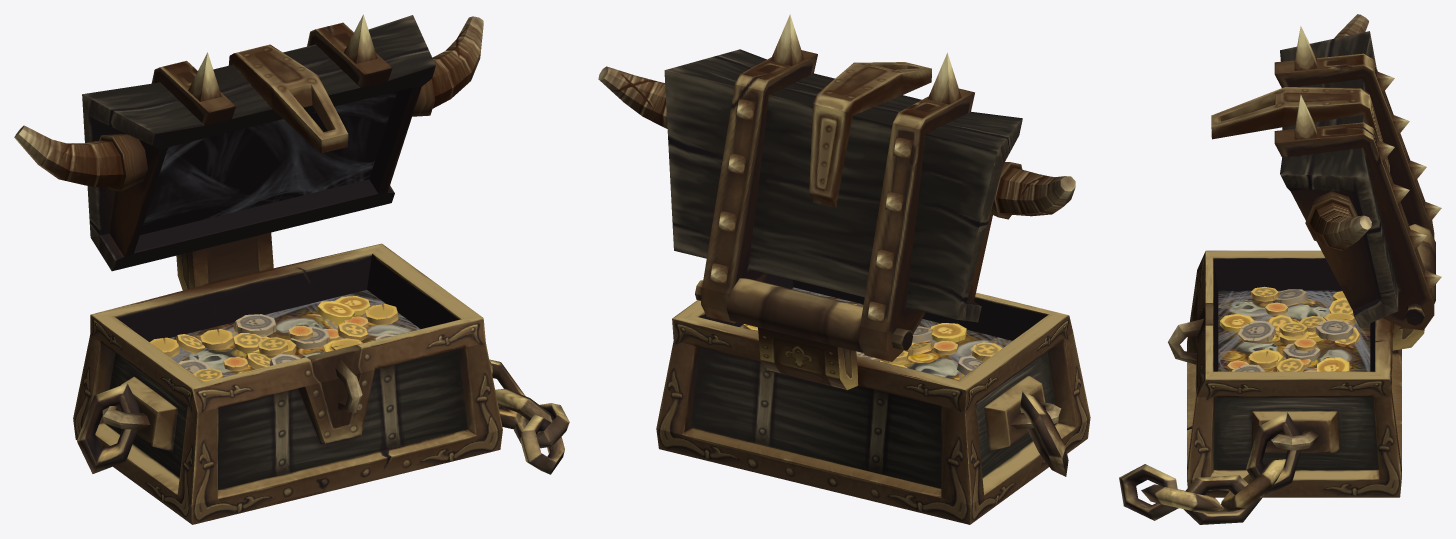
Rendered from Chest_2_skull.FBX.
3 renders of one model, left to right at view 1: azimuth 30°, elevation 25°; view 2: azimuth 150°, elevation 25°; view 3: azimuth 270°, elevation 25°, orthographic. The views are drawn at different scales.
Visible parts, largest first — view 1: Chest_2, Chest_2_cap; view 2: Chest_2_cap, Chest_2; view 3: Chest_2, Chest_2_cap.
Part boxes in pixels (left/top/right/bottom): Chest_2: left=73, top=232, right=569, bottom=524; Chest_2_cap: left=14, top=14, right=483, bottom=271; Chest_2_cap: left=598, top=14, right=1075, bottom=361; Chest_2: left=656, top=274, right=1090, bottom=524; Chest_2: left=1119, top=224, right=1435, bottom=524; Chest_2_cap: left=1211, top=14, right=1441, bottom=330.
Size of the model in its own units: 143 by 120 by 93.7.
